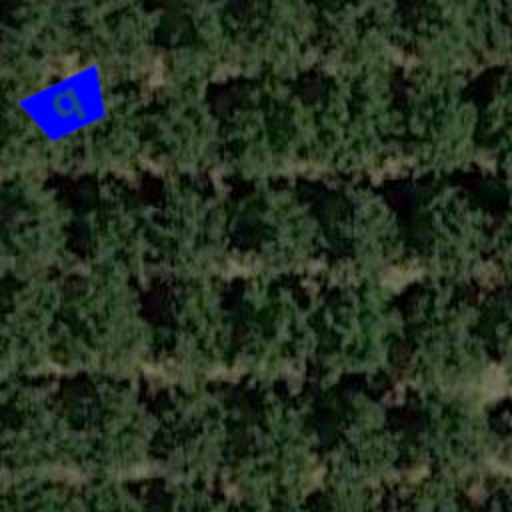trapezoid: (10, 48, 126, 164)
